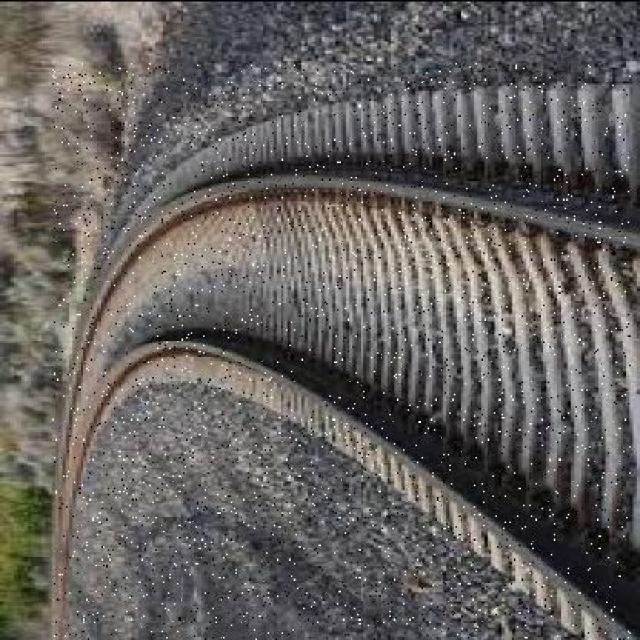rail: (53, 62, 631, 640)
